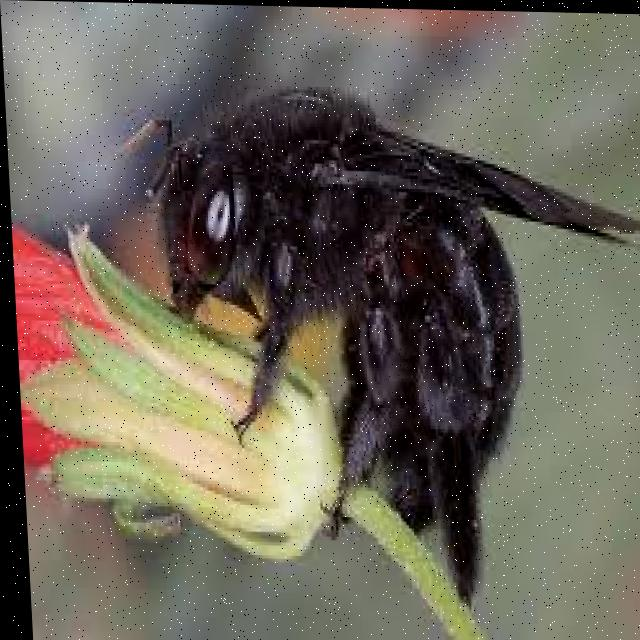Braunsapis: (144, 79, 595, 572)
